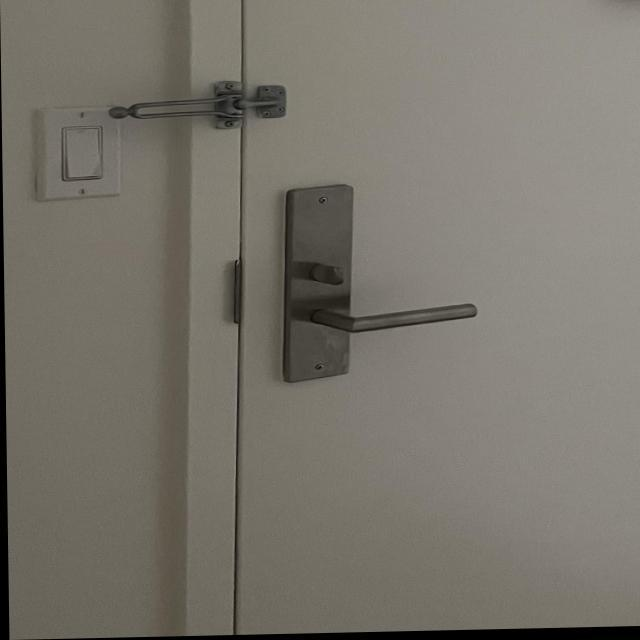door_handle: (276, 296, 489, 346)
